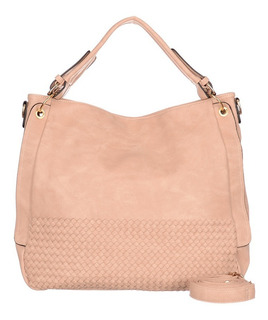cartera: (12, 15, 253, 292)
